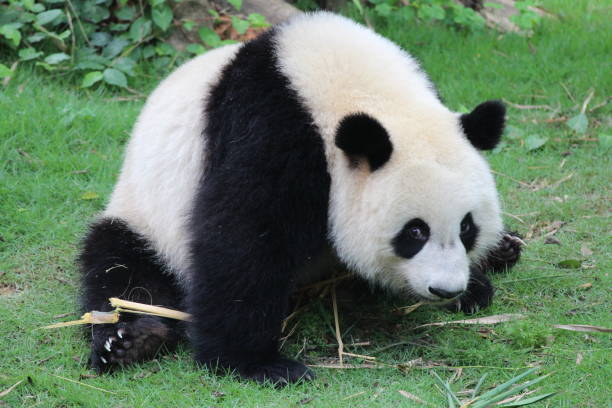panda: (303, 82, 552, 342)
